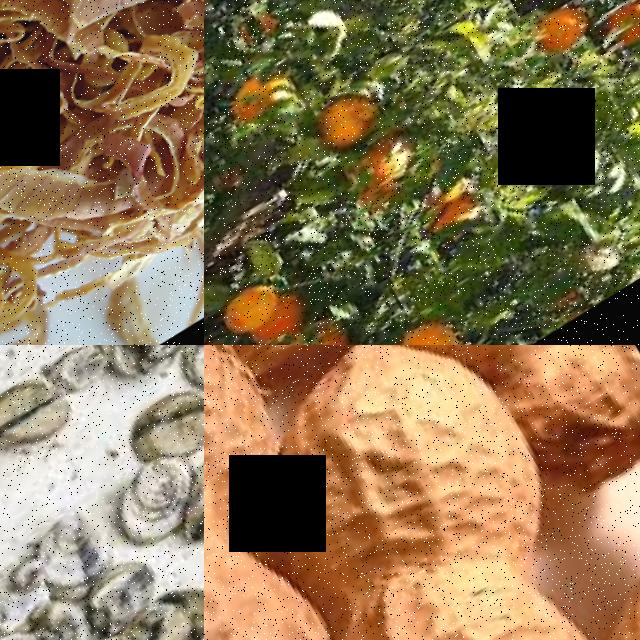orange: (310, 86, 386, 159), (218, 277, 282, 341), (531, 3, 594, 65), (389, 315, 466, 345)
oysters: (19, 495, 124, 609), (99, 446, 204, 558), (115, 372, 204, 480), (0, 361, 80, 474), (74, 548, 172, 640), (165, 446, 204, 560)
peanuts: (233, 345, 640, 640), (204, 408, 391, 640), (204, 345, 296, 591)
